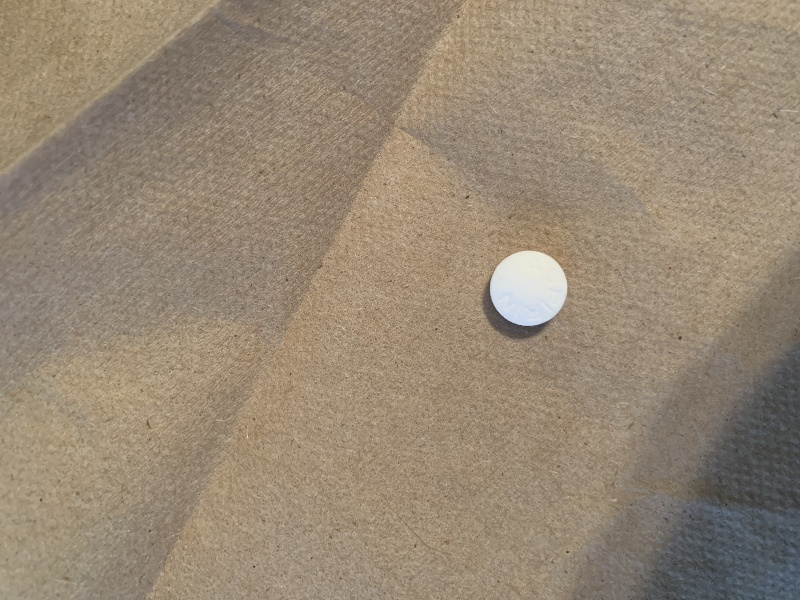Aspirin: (483, 246, 575, 334)
